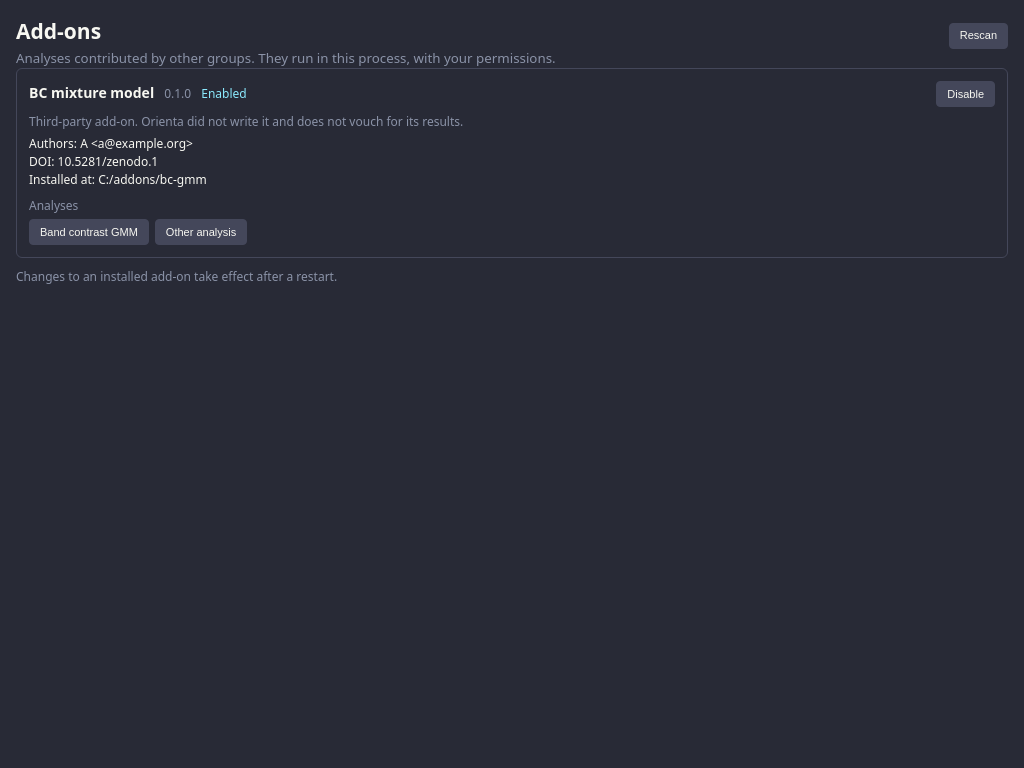
Test: when it ends › switching analyses clears the previous run’s NUMBERS, not just its form
Click the button "Band contrast GMM".
click(89, 232)  # box [29, 220, 149, 246]
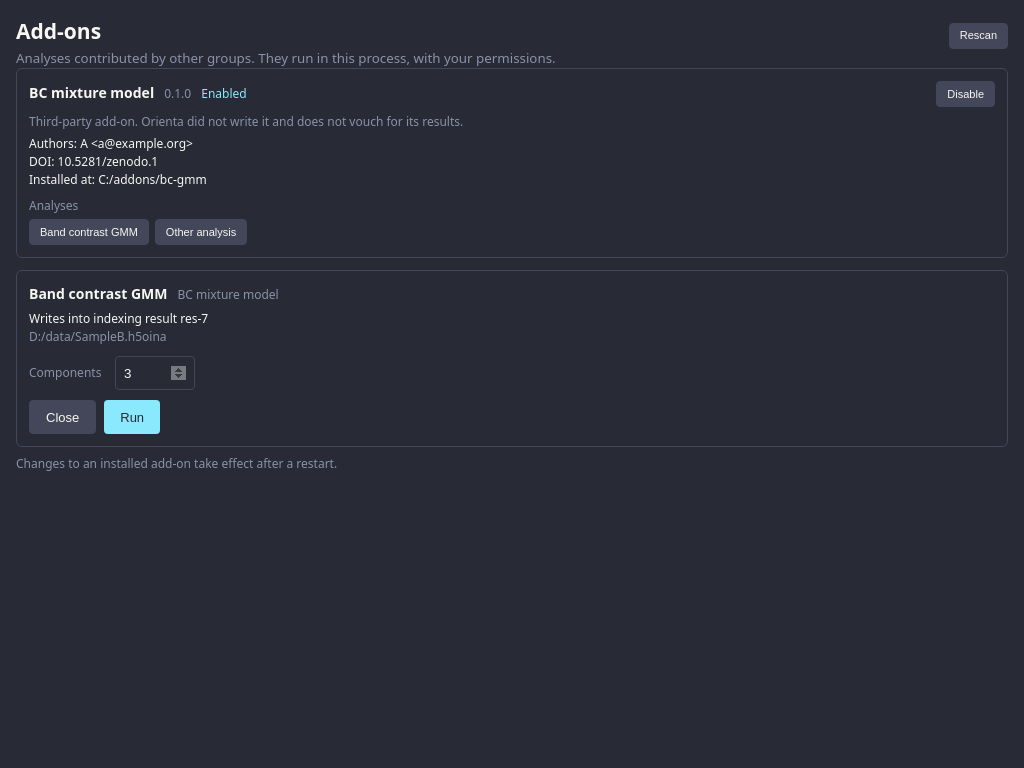
Click the button "Run".
click(132, 418)  # box [104, 400, 160, 434]
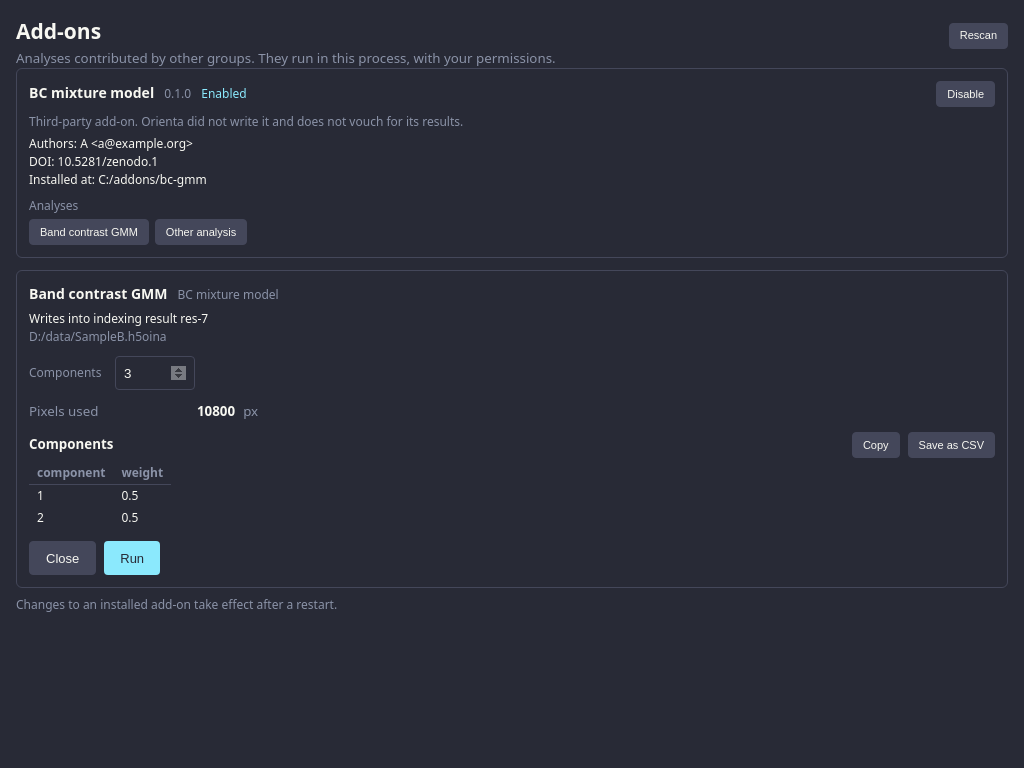
Expected: the element with test id "addon-outputs" is shown, [29, 402, 995, 530]
Click the button "Other analysis".
click(201, 232)  # box [155, 220, 247, 246]
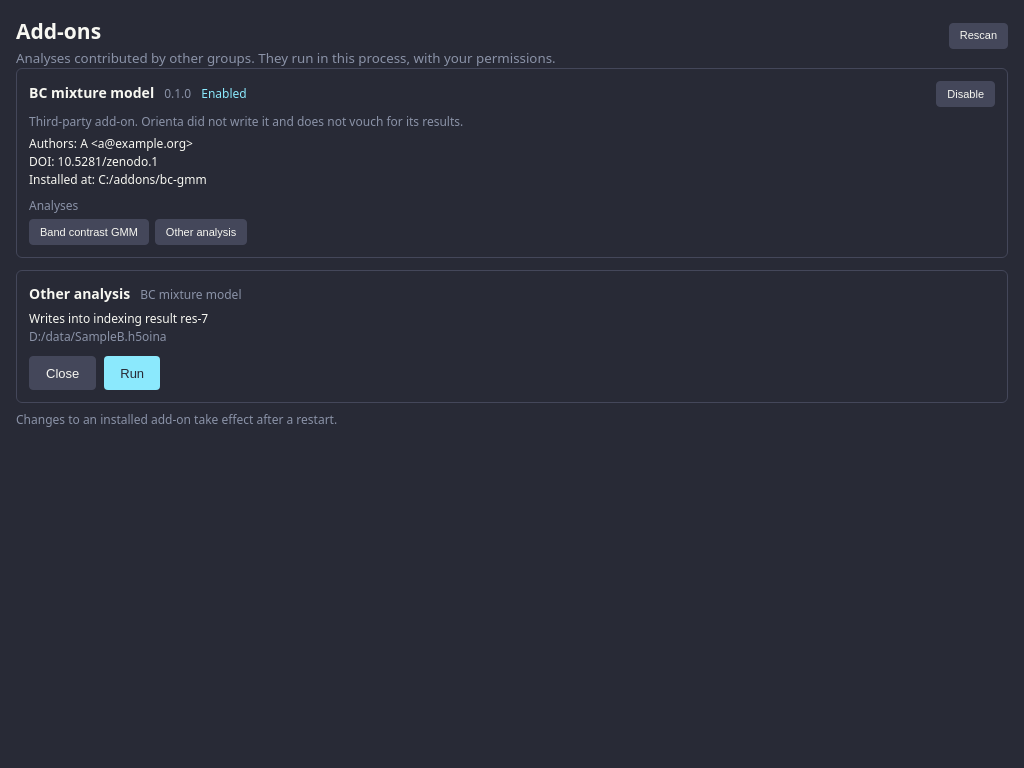
Expected: the element with test id "addon-outputs" is gone
Expected: the element with test id "addon-run-panel" shows "Other analysis", [29, 284, 130, 304]
